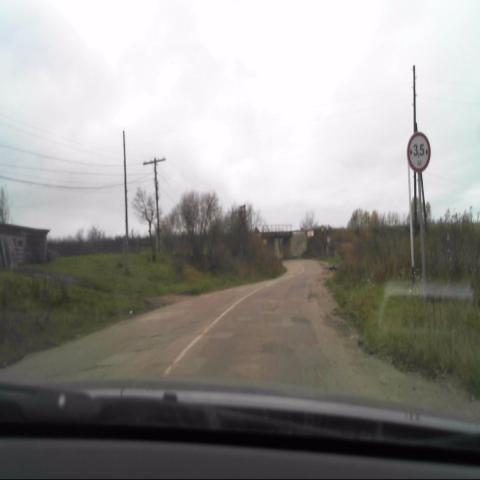3_14: (406, 132, 432, 174)
